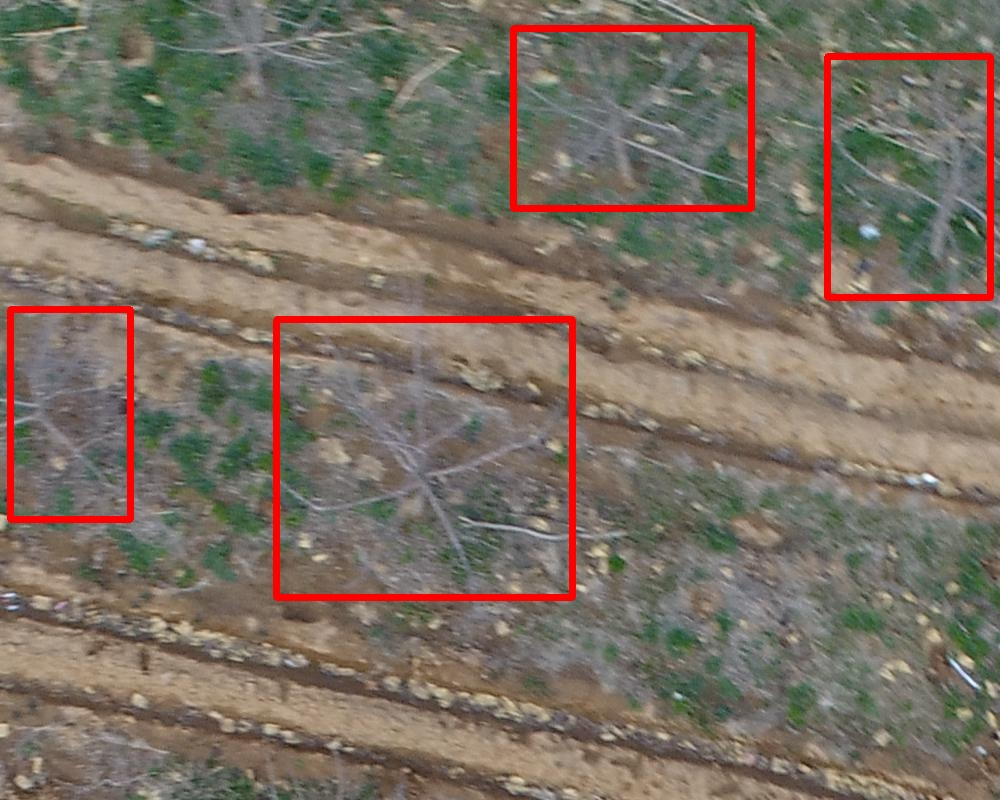apple: (276, 319, 572, 597), (513, 28, 751, 208), (827, 56, 990, 297), (10, 309, 130, 519)
